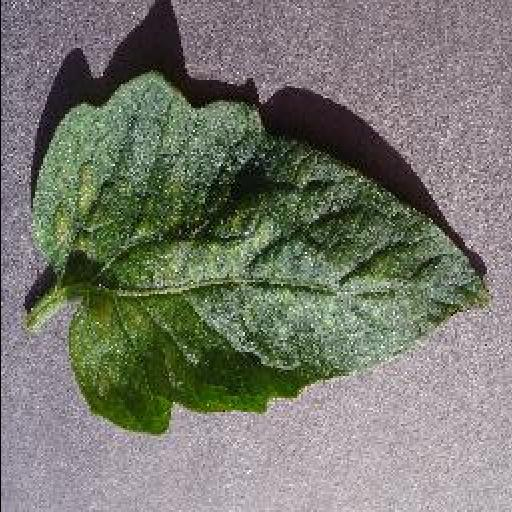disease_tomato: (30, 73, 494, 435)
